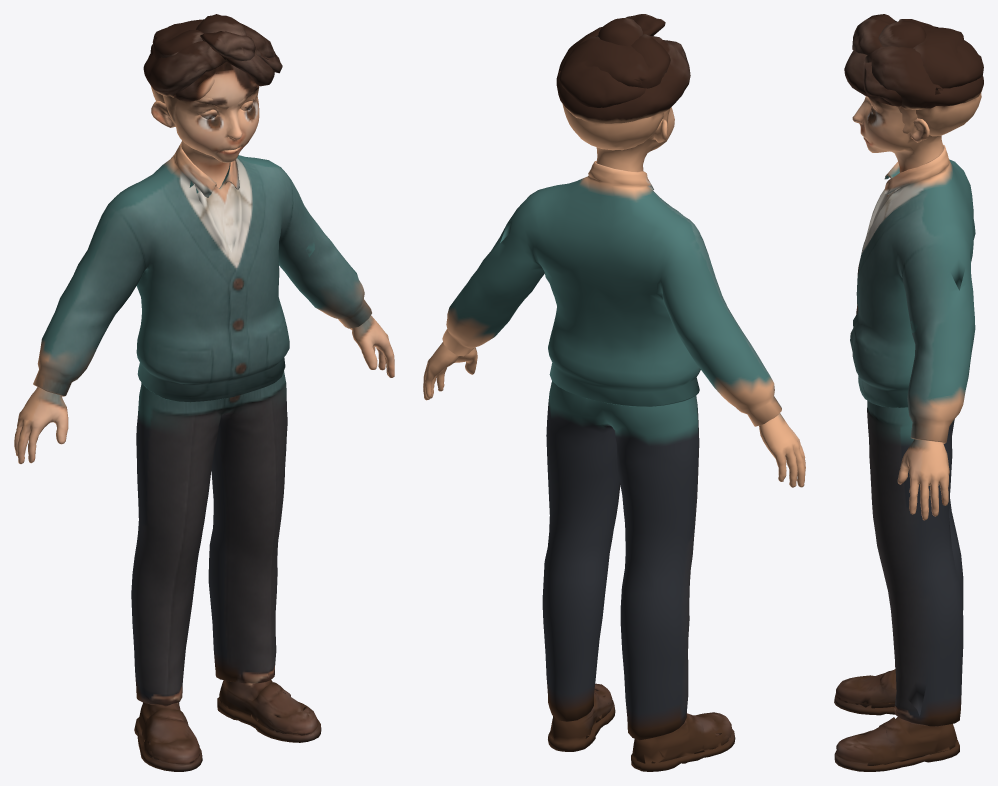
The model's file is teacher-colored-v4.glb.
3 renders of one model, left to right at view 1: azimuth 30°, elevation 25°; view 2: azimuth 150°, elevation 25°; view 3: azimuth 270°, elevation 25°, orthographic.
Visible parts, largest first — view 1: NPC_teacher; view 2: NPC_teacher; view 3: NPC_teacher.
Part boxes in pixels (bbox=[...]): NPC_teacher: bbox=[14, 14, 394, 771]; NPC_teacher: bbox=[423, 14, 805, 771]; NPC_teacher: bbox=[834, 14, 983, 771].
Size of the model in its own units: 0.9529 by 1.72 by 0.3297.
1 material, 1 textured.
